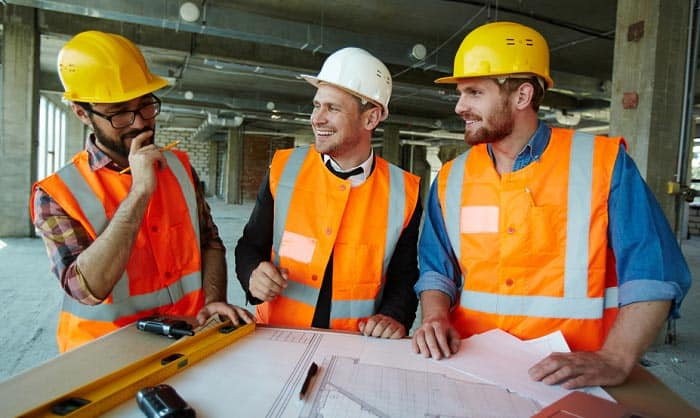Safety Helmet: (430, 12, 563, 170), (44, 20, 175, 171), (293, 35, 404, 177)
